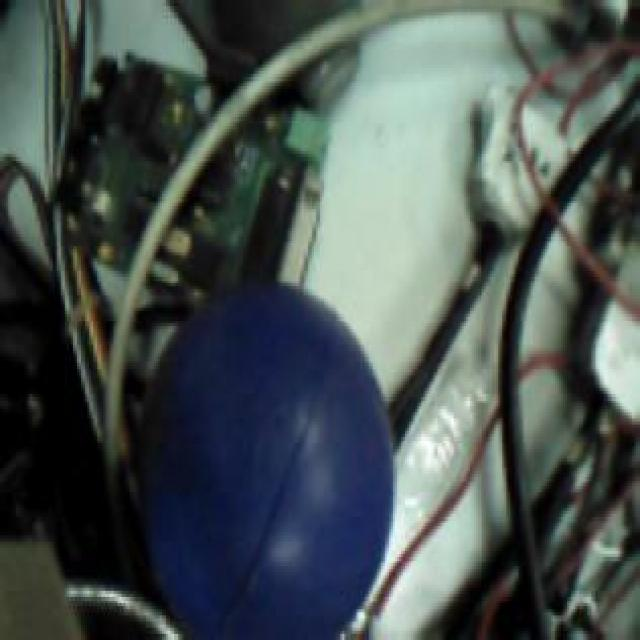BallPurple: (140, 286, 396, 640)
